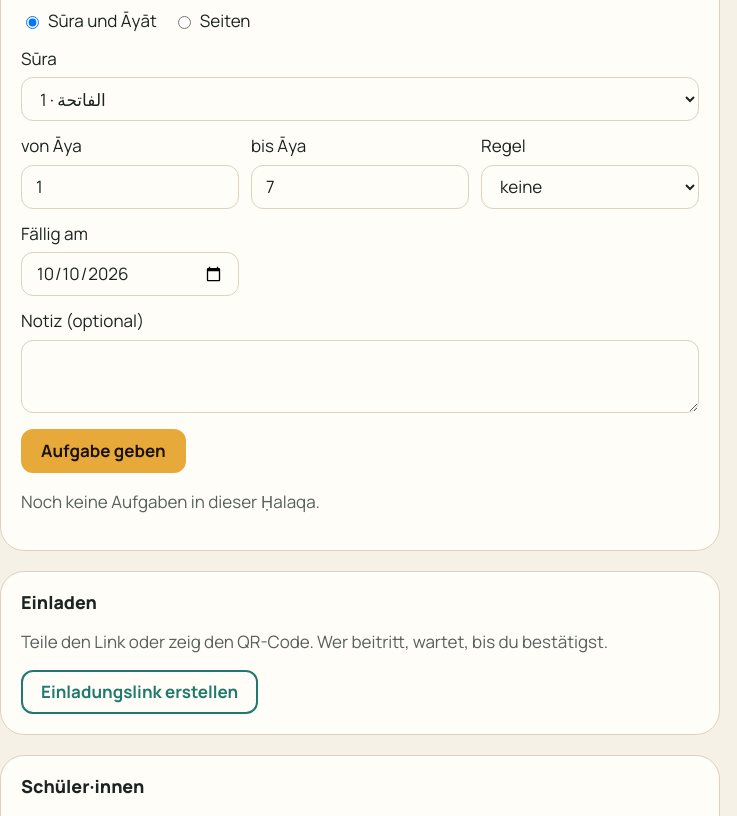
Test: giving assignments on the ḥalaqa page (T2) › says why giving failed
(page scrolled)
Step 1. Click the button "Aufgabe geben" → (103, 450), box [21,428,186,472]
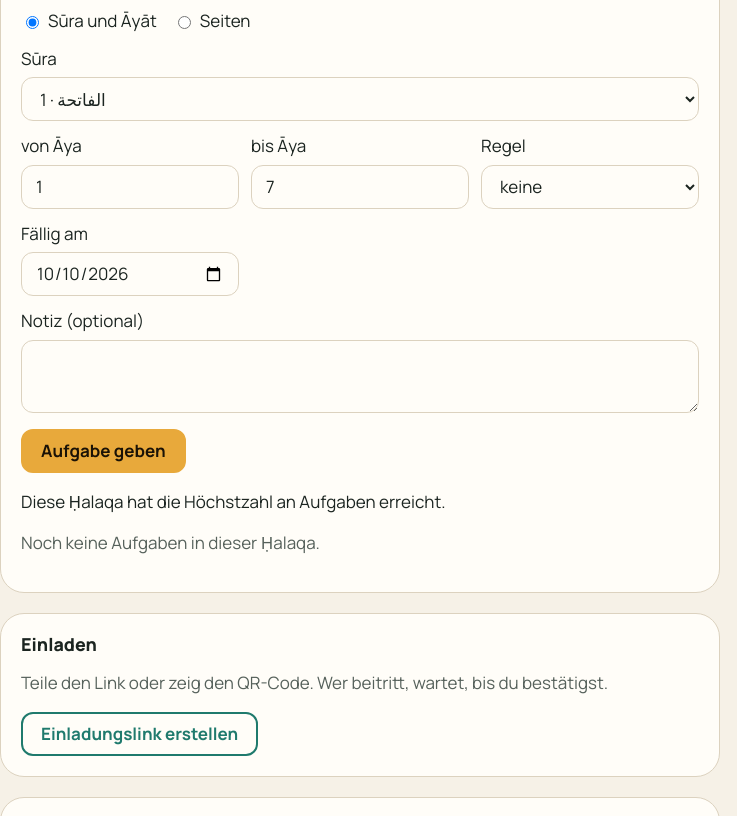
Expected: the message reads "Diese Ḥalaqa hat die Höchstzahl an Aufgaben erreicht.", [21,490,446,512]
